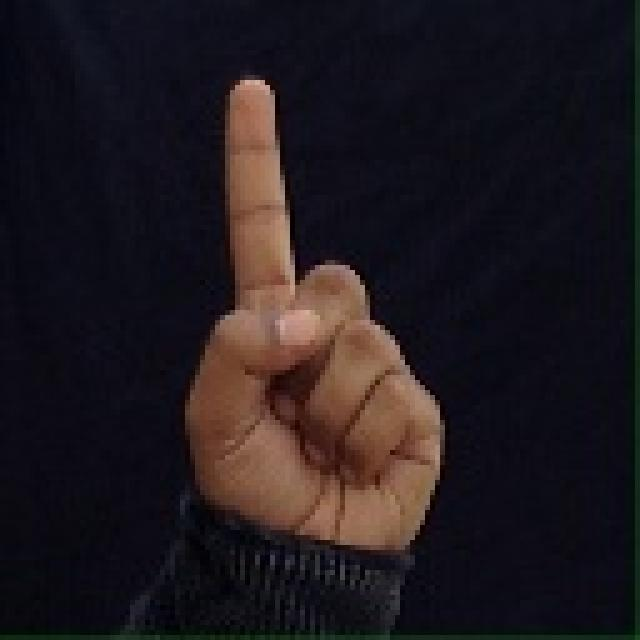Numeric-1: (185, 72, 445, 560)
